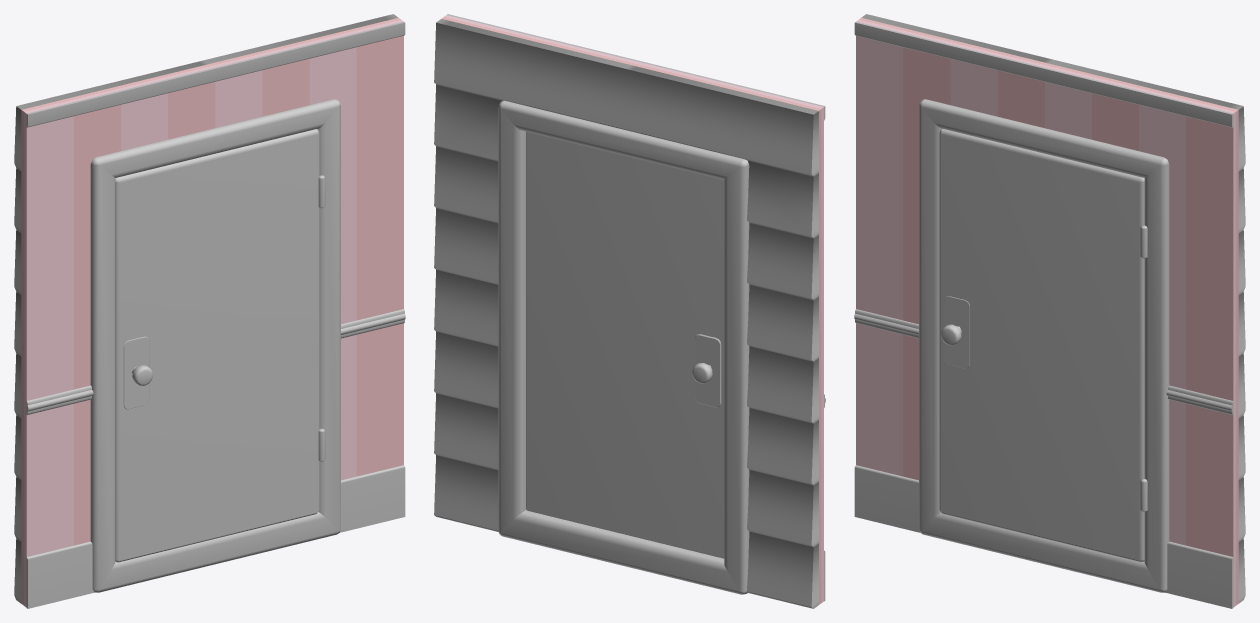
Rendered from DoorCenteredWide.fbx.
3 renders of one model, left to right at view 1: azimuth 30°, elevation 25°; view 2: azimuth 150°, elevation 25°; view 3: azimuth 330°, elevation 25°, orthographic.
Visible parts, largest first — view 1: Door, Wall_Interior6, Wall_Interior7, DoorFrame, Wall_Exterior10, Wall_Exterior11; view 2: Door, Wall_Exterior10, Wall_Exterior11, DoorFrame, Wall_Interior6, Wall_Interior7; view 3: Door, Wall_Interior7, Wall_Interior6, DoorFrame, Wall_Exterior11, Wall_Exterior10.
Boxes of the visible parts, box(x1,y1,x2,y2) form: Door: box(115, 129, 325, 562); Wall_Interior6: box(21, 64, 216, 608); Wall_Interior7: box(210, 18, 405, 532); DoorFrame: box(90, 99, 340, 592); Wall_Exterior10: box(14, 60, 209, 603); Wall_Exterior11: box(205, 14, 398, 63); Door: box(526, 131, 724, 558); Wall_Exterior10: box(623, 65, 818, 608); Wall_Exterior11: box(434, 19, 629, 531); DoorFrame: box(498, 100, 749, 594); Wall_Interior6: box(630, 60, 825, 604); Wall_Interior7: box(441, 14, 635, 64); Door: box(939, 128, 1147, 562); Wall_Interior7: box(1043, 64, 1238, 608); Wall_Interior6: box(854, 18, 1049, 532); DoorFrame: box(919, 99, 1169, 592); Wall_Exterior11: box(1050, 60, 1245, 603); Wall_Exterior10: box(861, 14, 1054, 63).
Size of the model in its own units: 2 by 2.51 by 0.2884.
